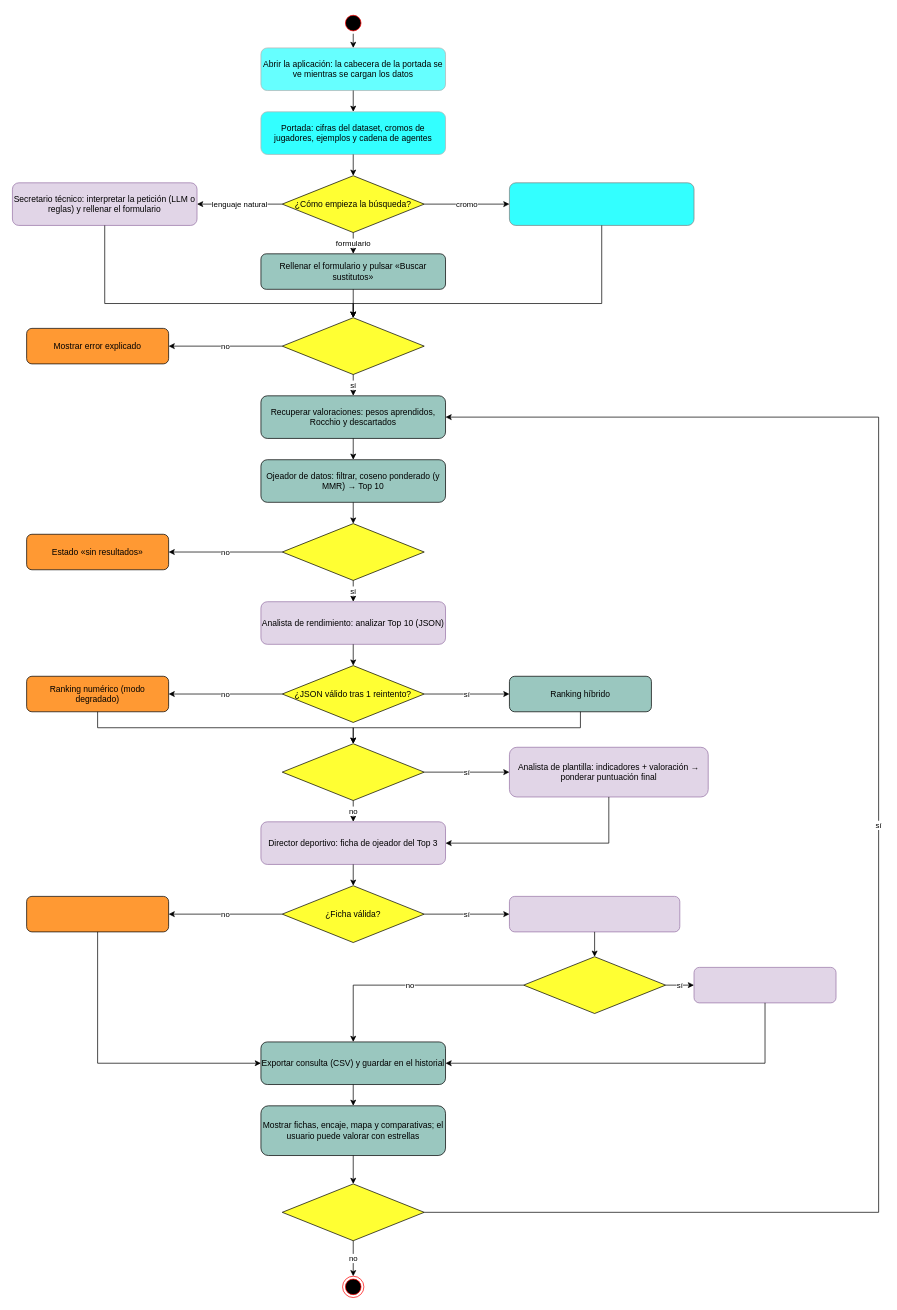
This 897x1310 diagram has some shape labels left out. The centre of each missing label's shape, as x and y in pixels:
Cromo: rellenar el formulario con el jugador y su club como destino: [601,203]
Director deportivo: corregir una vez: [764,985]
Ficha automática: [97,914]
Jefe de scouting: revisar fichas: [594,914]
¿Consulta válida?: [353,346]
¿Hay candidatos?: [353,551]
¿Hay club de destino?: [353,772]
¿Recalcular con las nuevas valoraciones?: [353,1212]
¿Rechaza alguna ficha?: [594,985]
